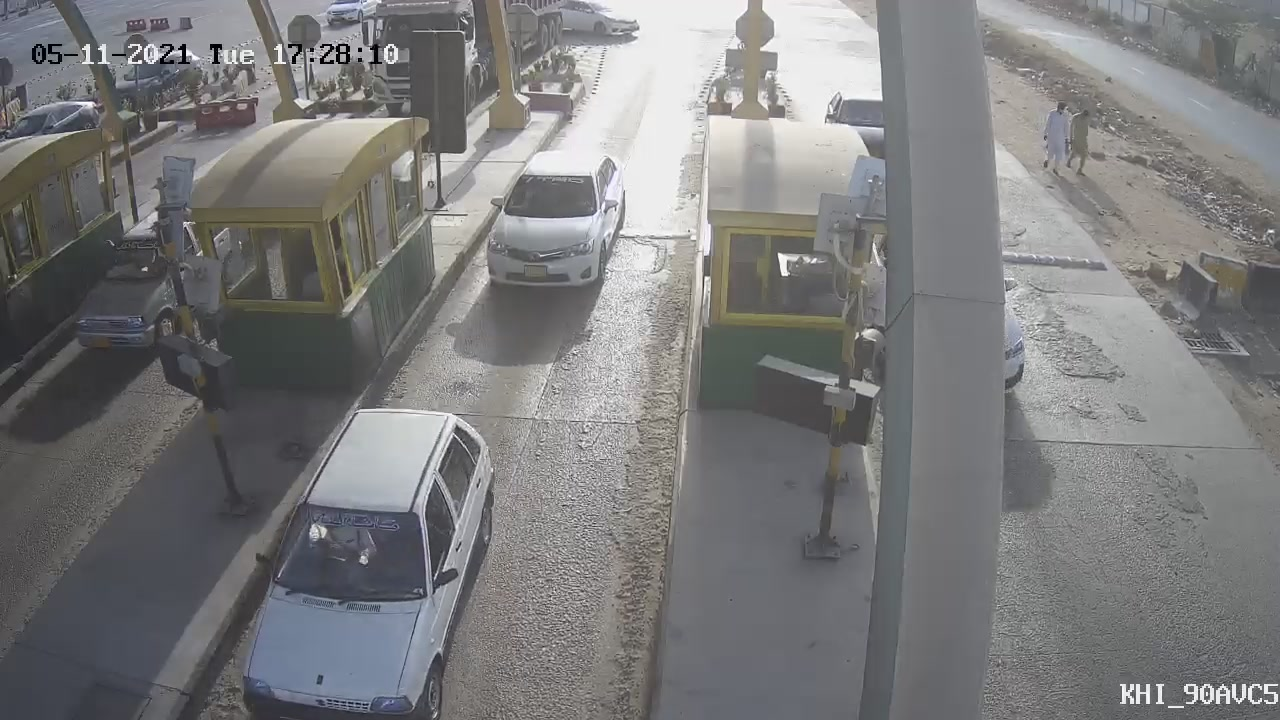F1: (469, 129, 643, 312)
